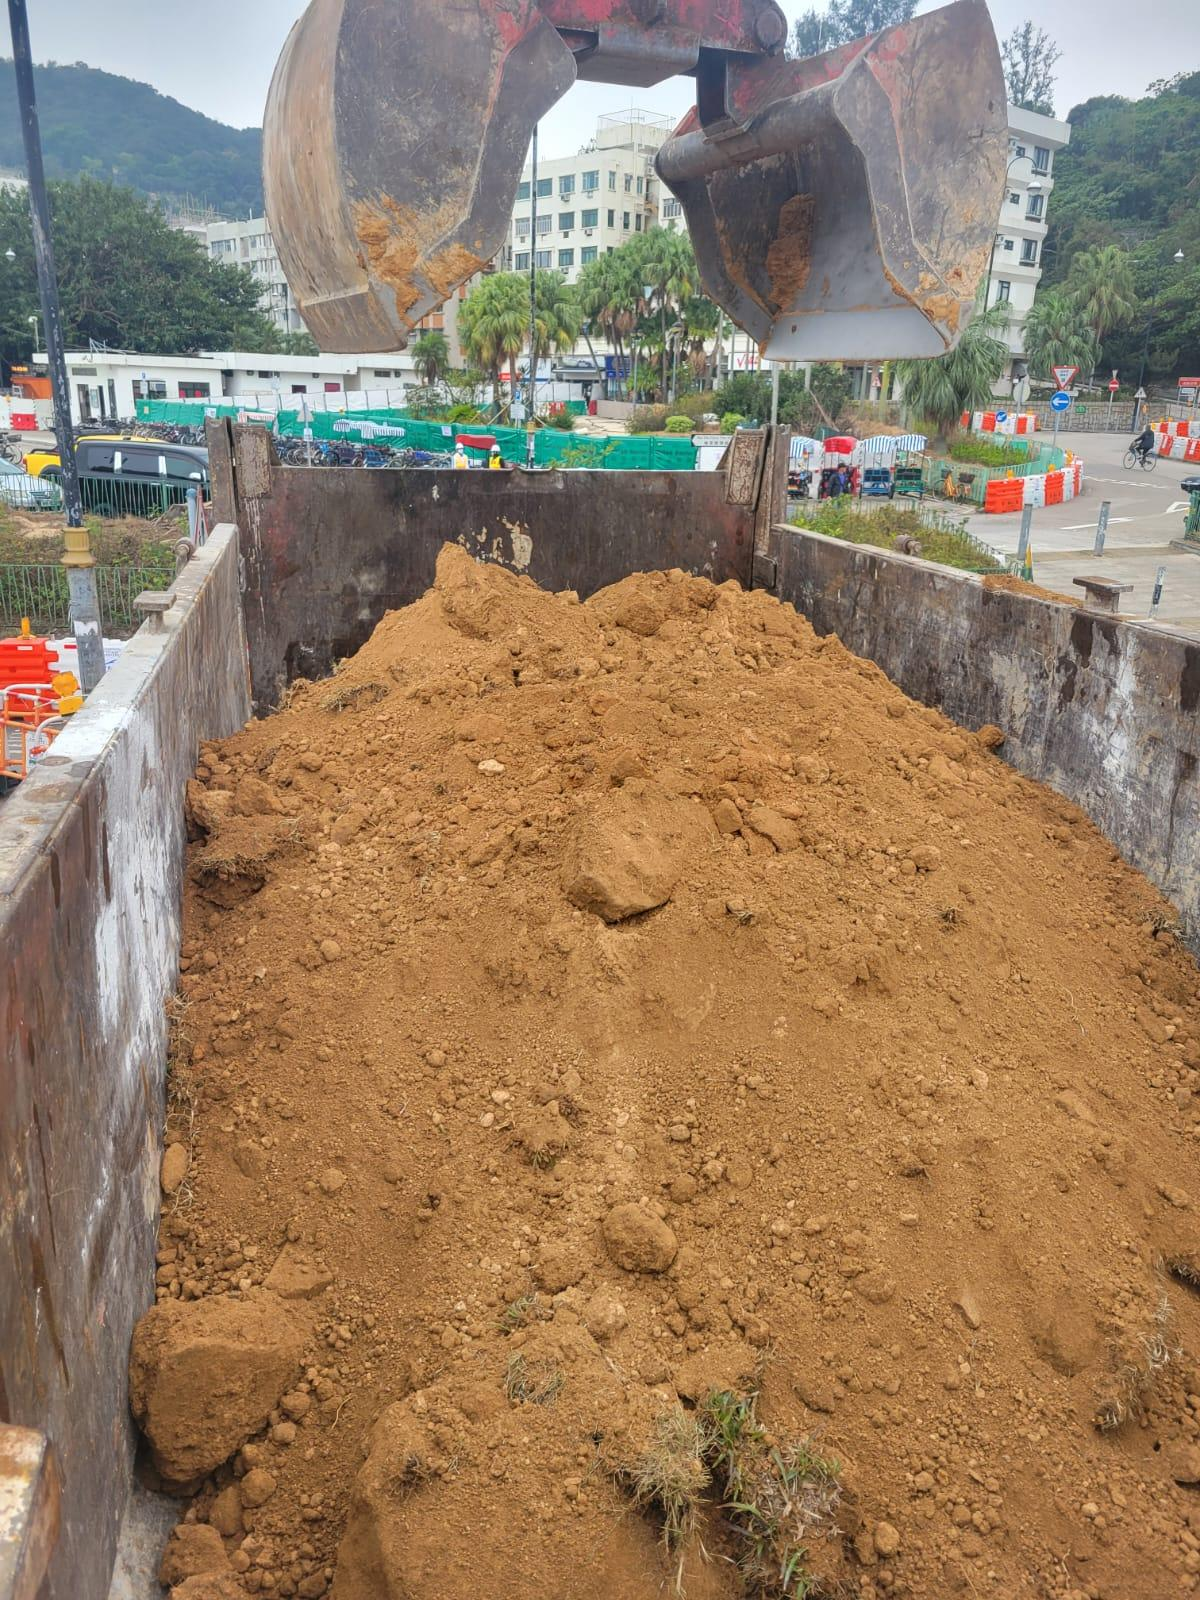dry: (160, 551, 1197, 1595)
